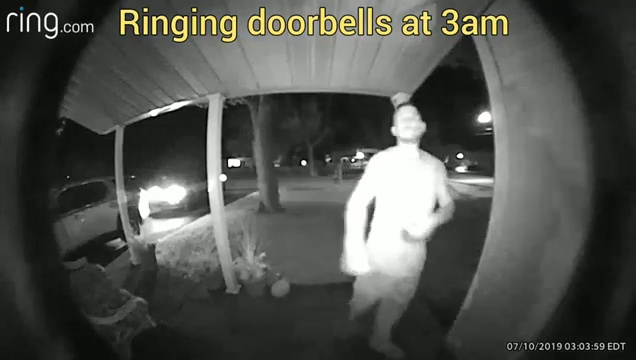face: (396, 111, 418, 138)
